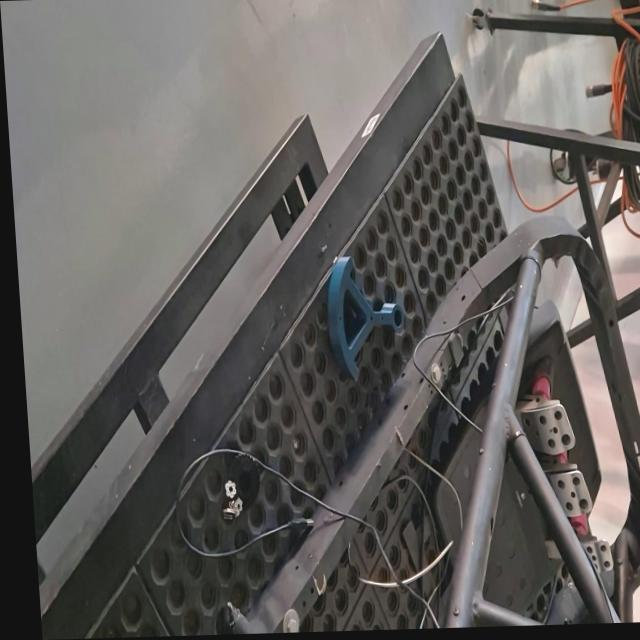haptic: (322, 251, 409, 382)
